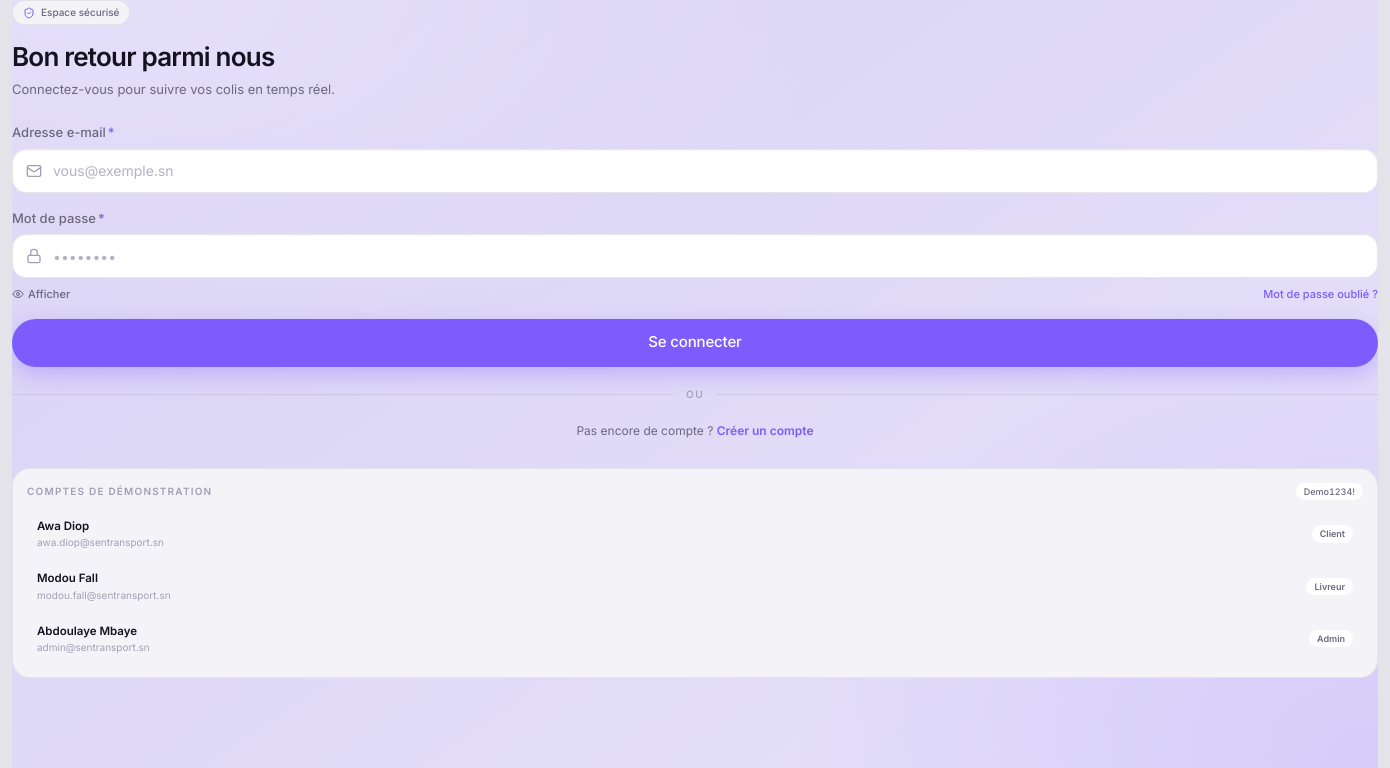
LoginForm › affiche l’erreur renvoyée par l’API pour un mot de passe incorrect
Type "awa.diop@sentransport.sn" into the field labelled "Adresse e-mail*". click: (695, 170)
box: left=12, top=148, right=1378, bottom=192
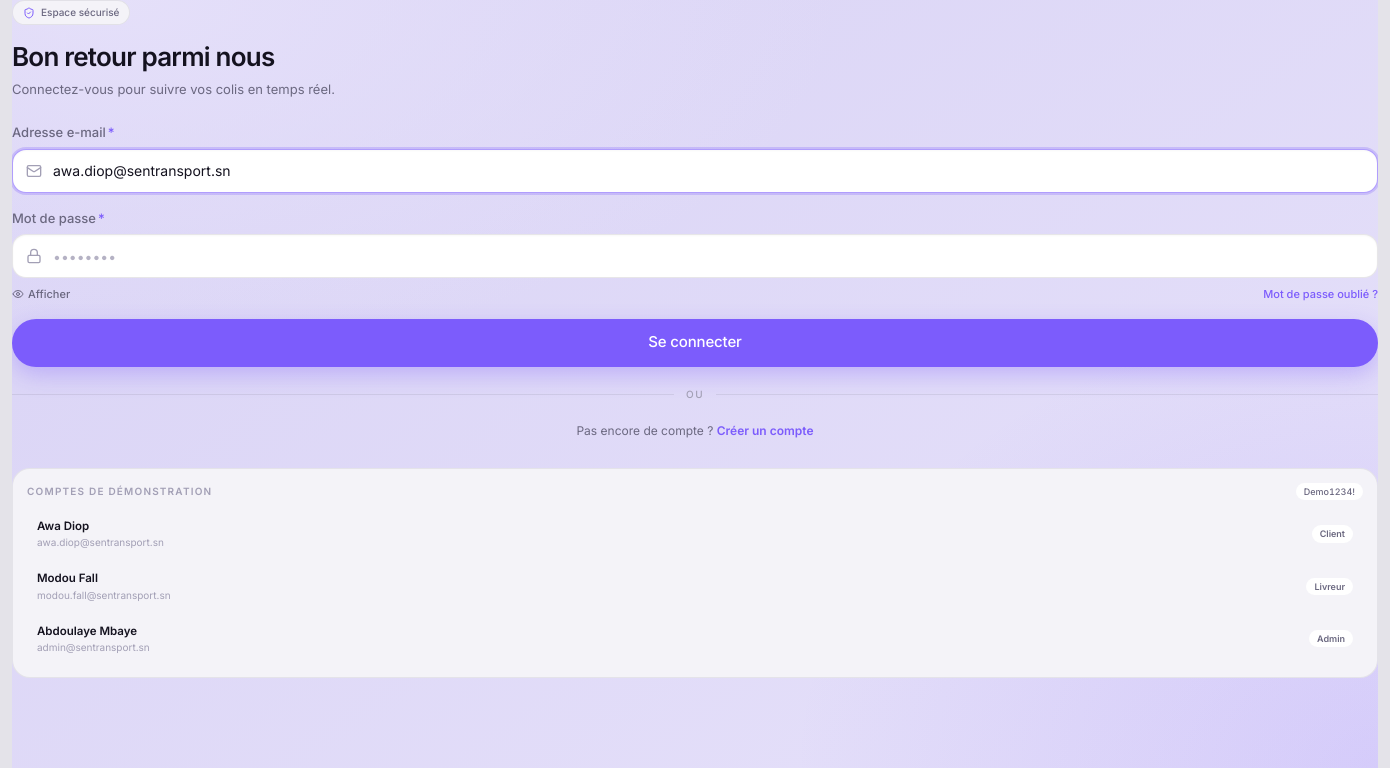
Type "Mauvais1234!" into the password field labelled "Mot de passe*". click: (695, 256)
box: left=12, top=234, right=1378, bottom=278
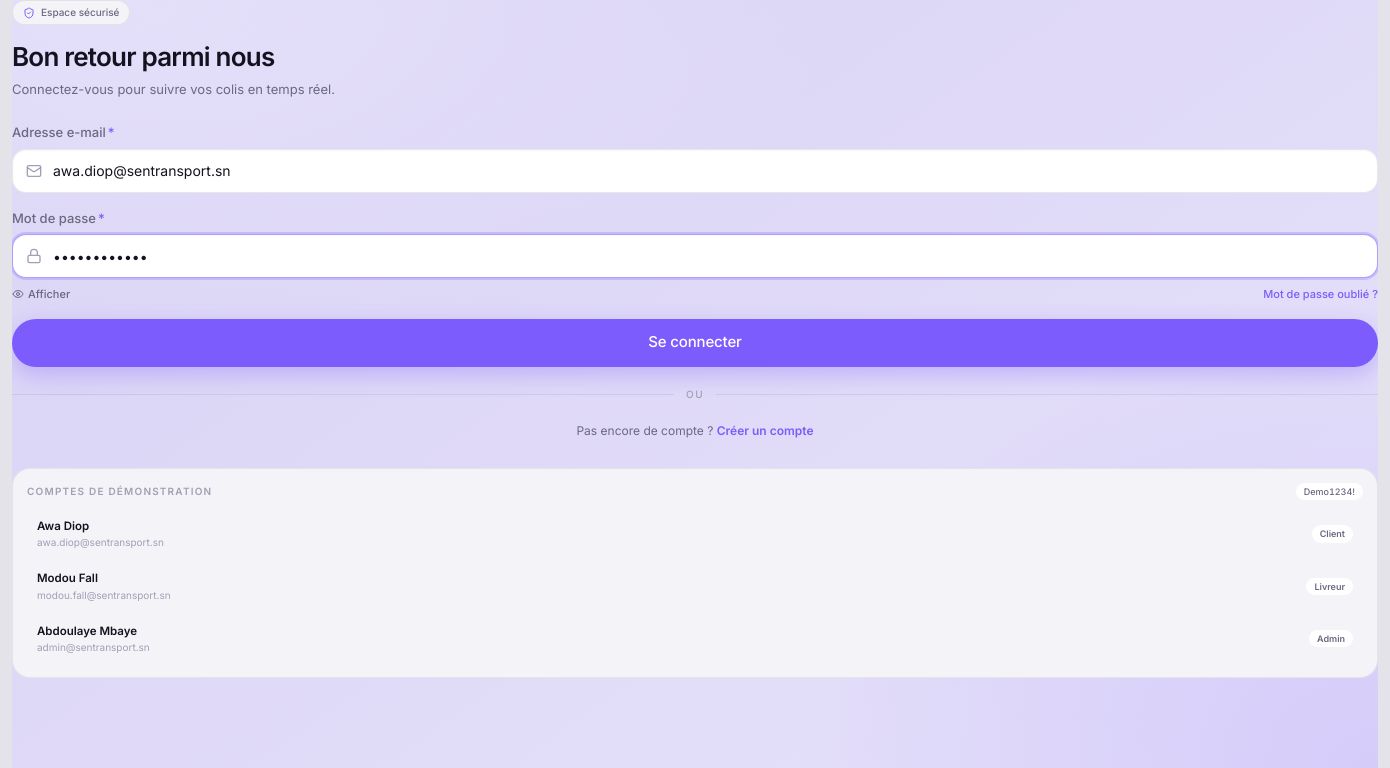
Click the button "Se connecter". click: (695, 342)
box: left=12, top=318, right=1378, bottom=366
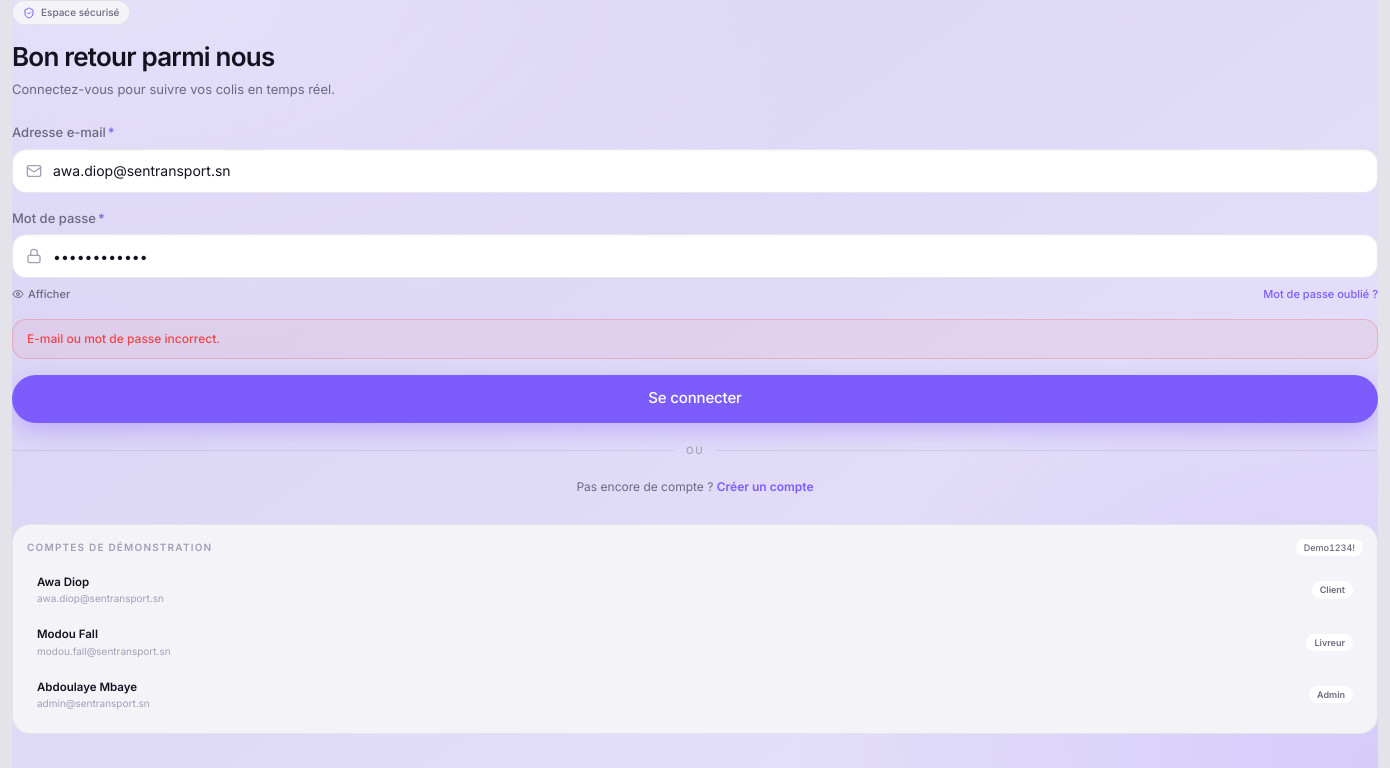
Now the text "E-mail ou mot de passe incorrect." is shown, box left=12, top=318, right=1378, bottom=358
